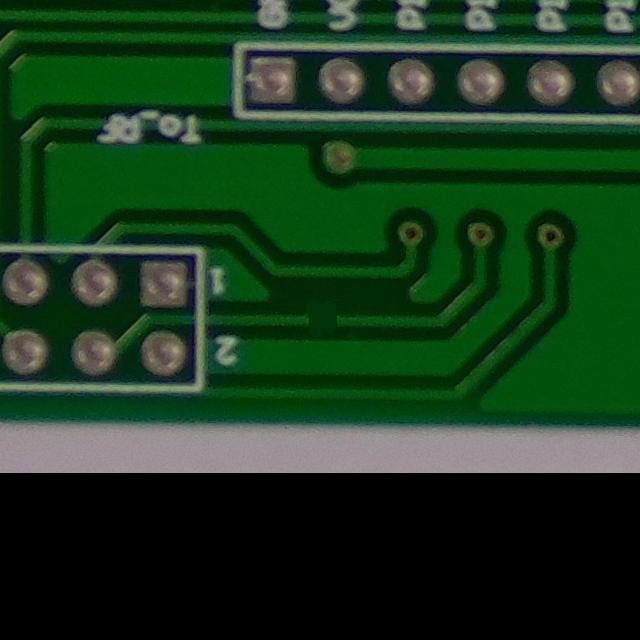open_circuit: (294, 300, 346, 341)
